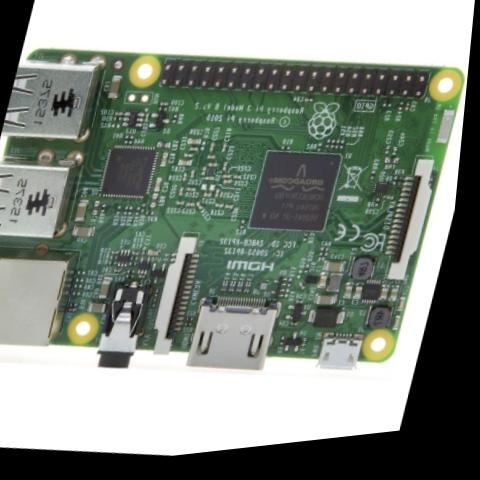Raspberry-Pi-3-Model-B: (0, 0, 477, 434)
